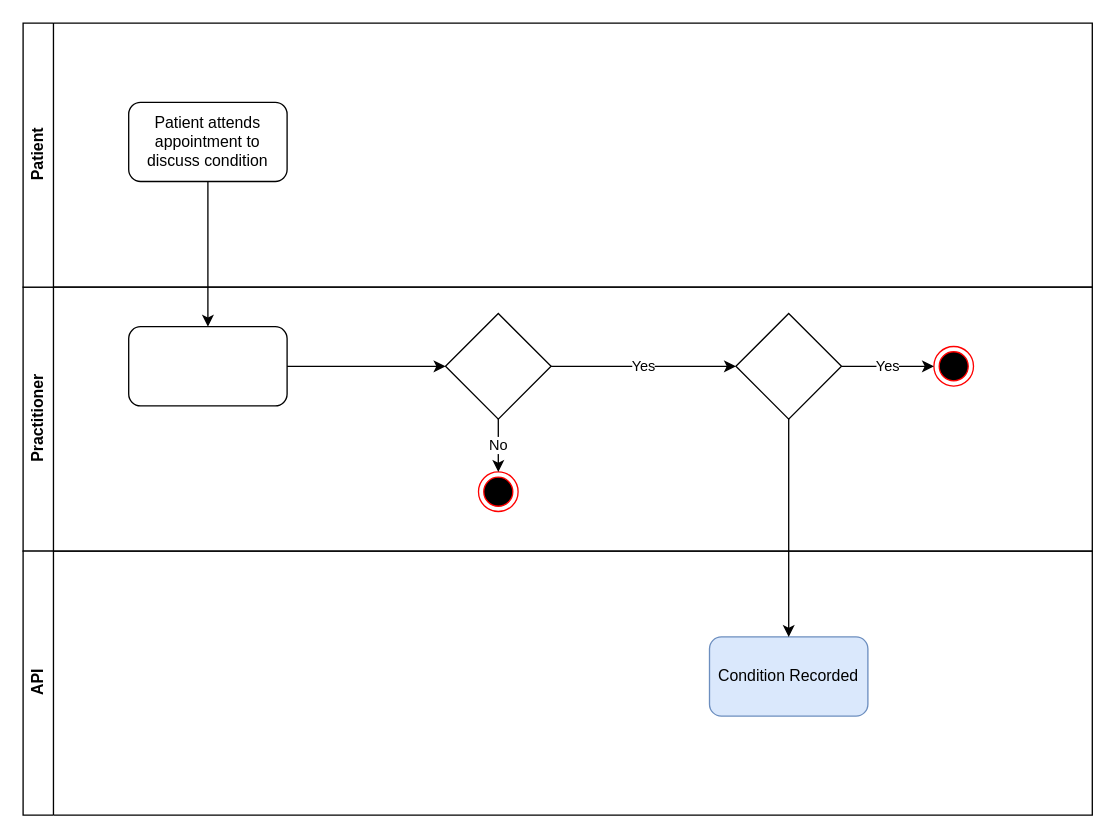
Some shapes in this 1115 by 838 pixel diagram are drawn without their labels. The shapes that lost their labels are listed below. From the top down, each one's centre as x and y in pixels, then its label:
At (207,365): "Practitioner examines patient".
At (497,365): "Condition Exists".
At (788,365): "Patient consents to record".
